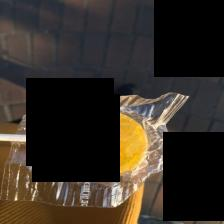yellow: (50, 110, 148, 176), (0, 184, 144, 224)
